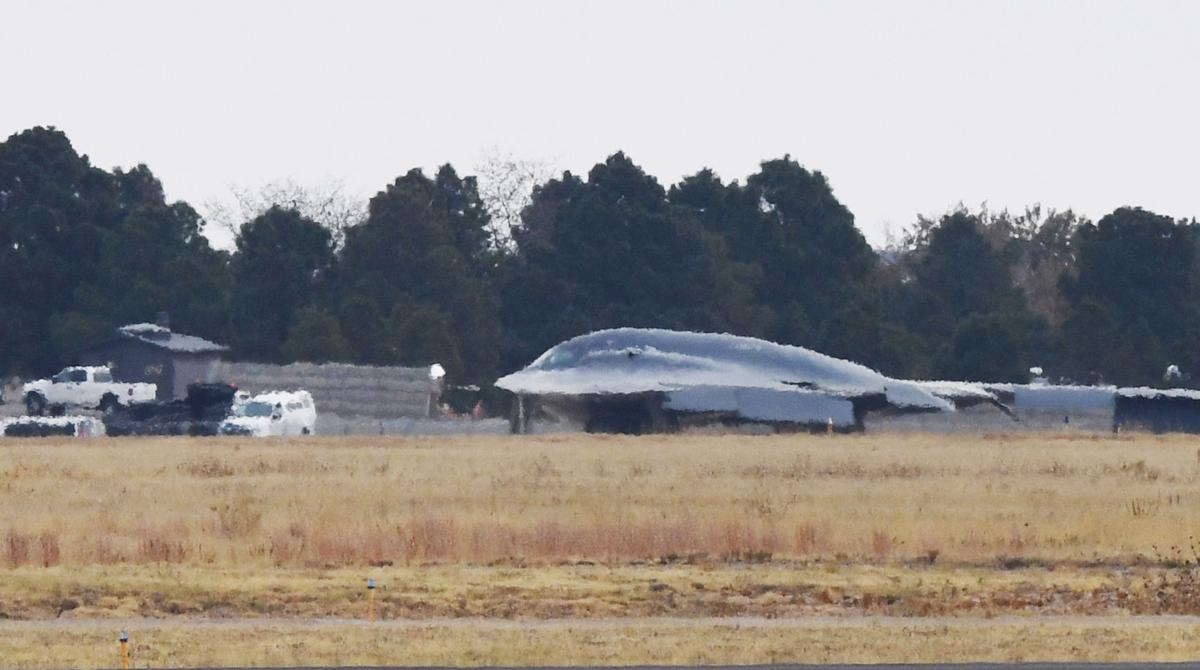B2: (492, 326, 1200, 433)
